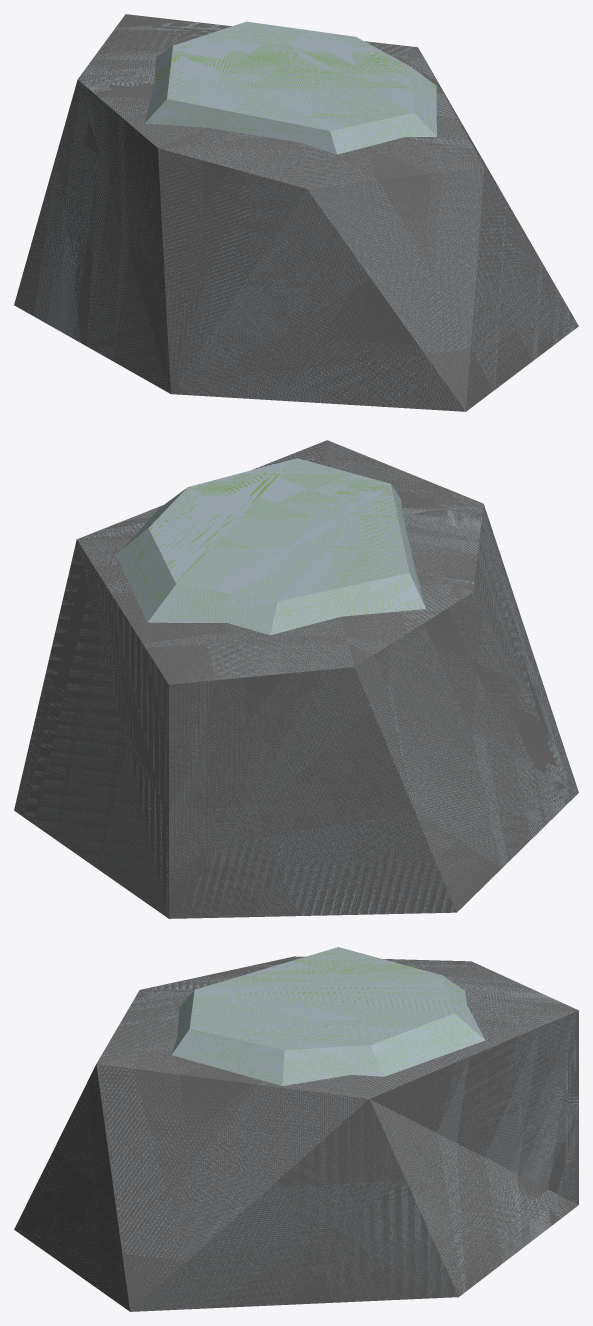
File: Rock_Small_Grass_03.fbx
3 views of the same model, one above another, from view 1: azimuth 30°, elevation 25°; view 2: azimuth 150°, elevation 25°; view 3: azimuth 270°, elevation 25° (orthographic). The views are drawn at different scales.
Parts seen in each view (by area): view 1: Model; view 2: Model; view 3: Model.
Part boxes in pixels (box(x1,y1,x2,y2)): Model: box(14, 14, 578, 411); Model: box(14, 440, 578, 918); Model: box(14, 947, 578, 1311).
Bounding box in the file's own units: 107 × 70.97 × 133.
